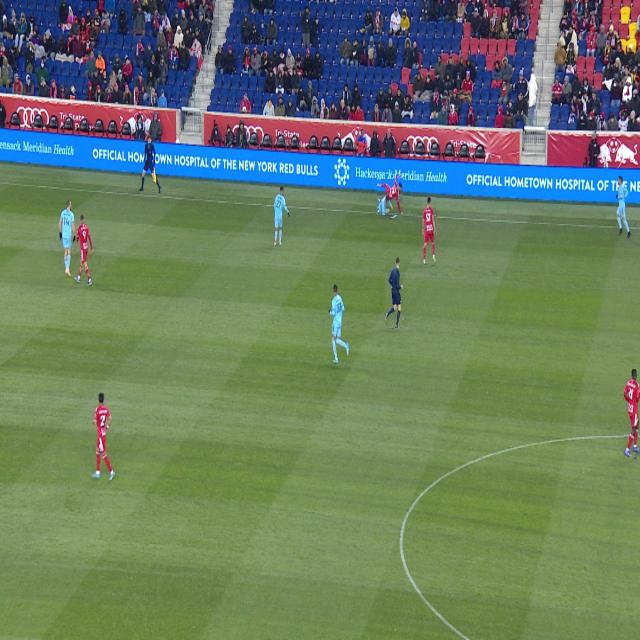player: (91, 393, 115, 480), (329, 285, 349, 364), (624, 369, 640, 457), (75, 214, 94, 286), (59, 199, 76, 277), (377, 175, 403, 215), (274, 186, 290, 248), (617, 176, 632, 238), (423, 198, 436, 265), (387, 196, 403, 219), (398, 198, 402, 202)
referee: (386, 257, 403, 328)
